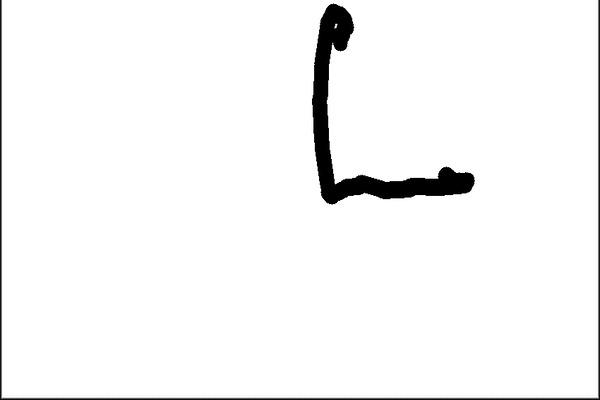L: (306, 1, 481, 208)
